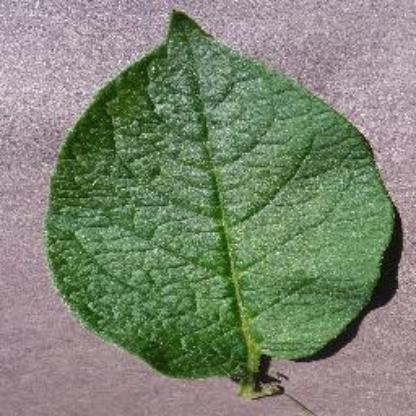Healthy-plant: (44, 5, 396, 385)
